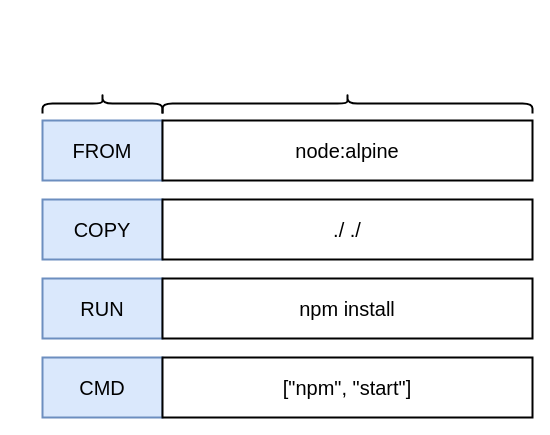
The diagram is 550 pixels wide and 435 high, and some of its shapes have lost their labels. Here are the shapes that lost their labels. From the top down, the centre of each, then its label:
At pixel 102 103: "Instruction telling Docker Server what to do".
At pixel 347 103: "Argument to the instruction".
